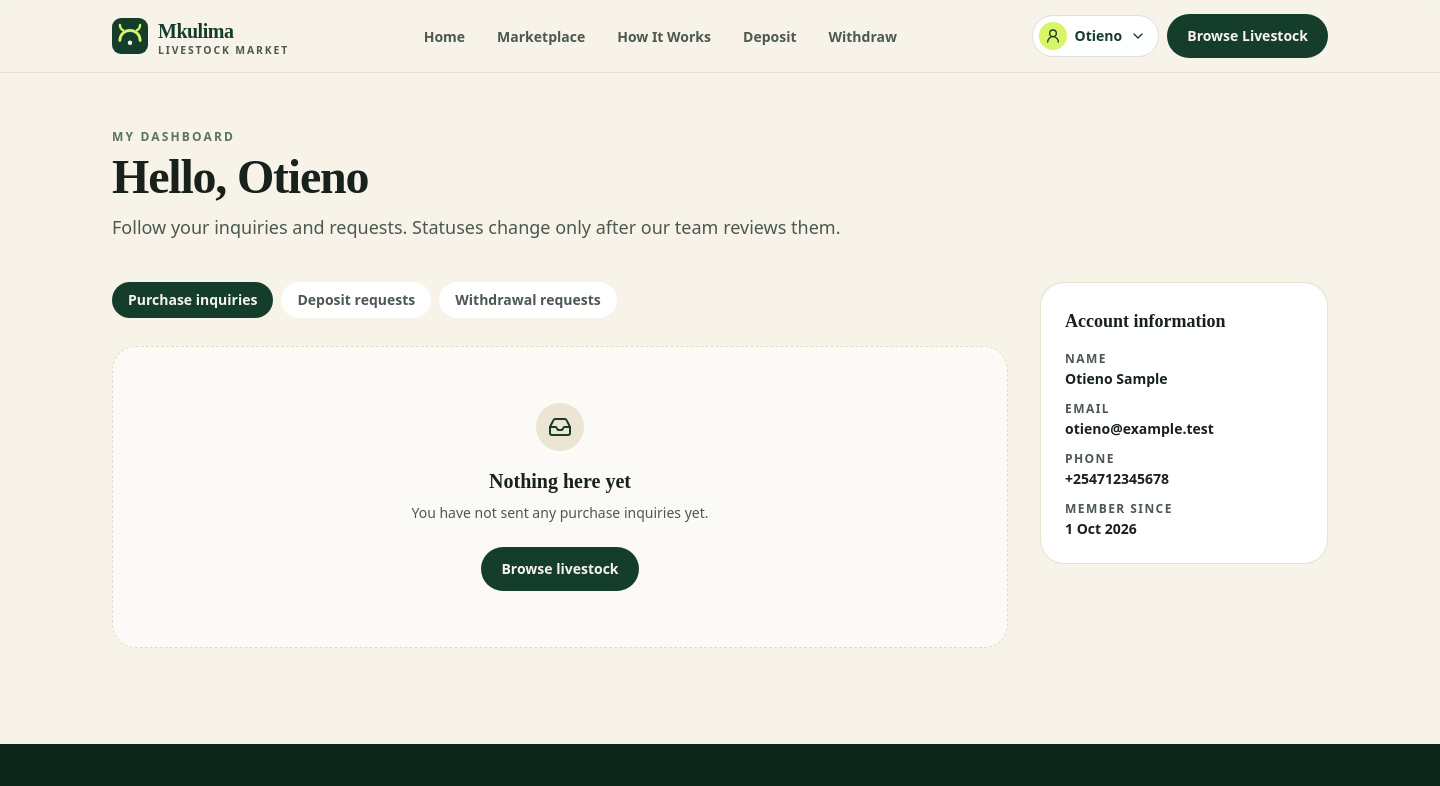
Scenario: Sign in, sign up and sign out › signs out from the account menu
The image size is (1440, 786).
Click the button with aria-label "account menu" at coordinates (1095, 36), box [1032, 15, 1159, 57]
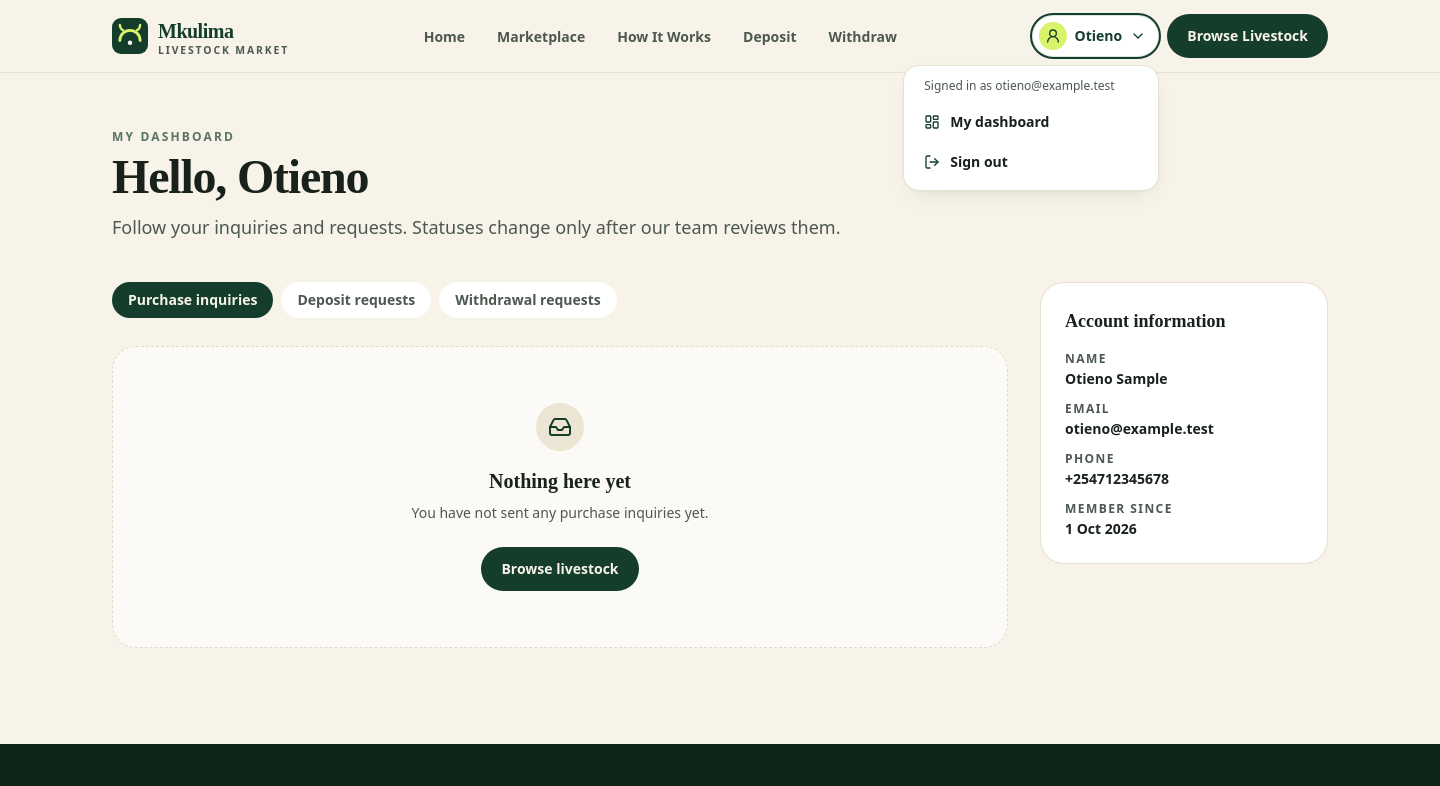
Click the button "Sign out" at coordinates (1031, 162), box [912, 142, 1150, 182]
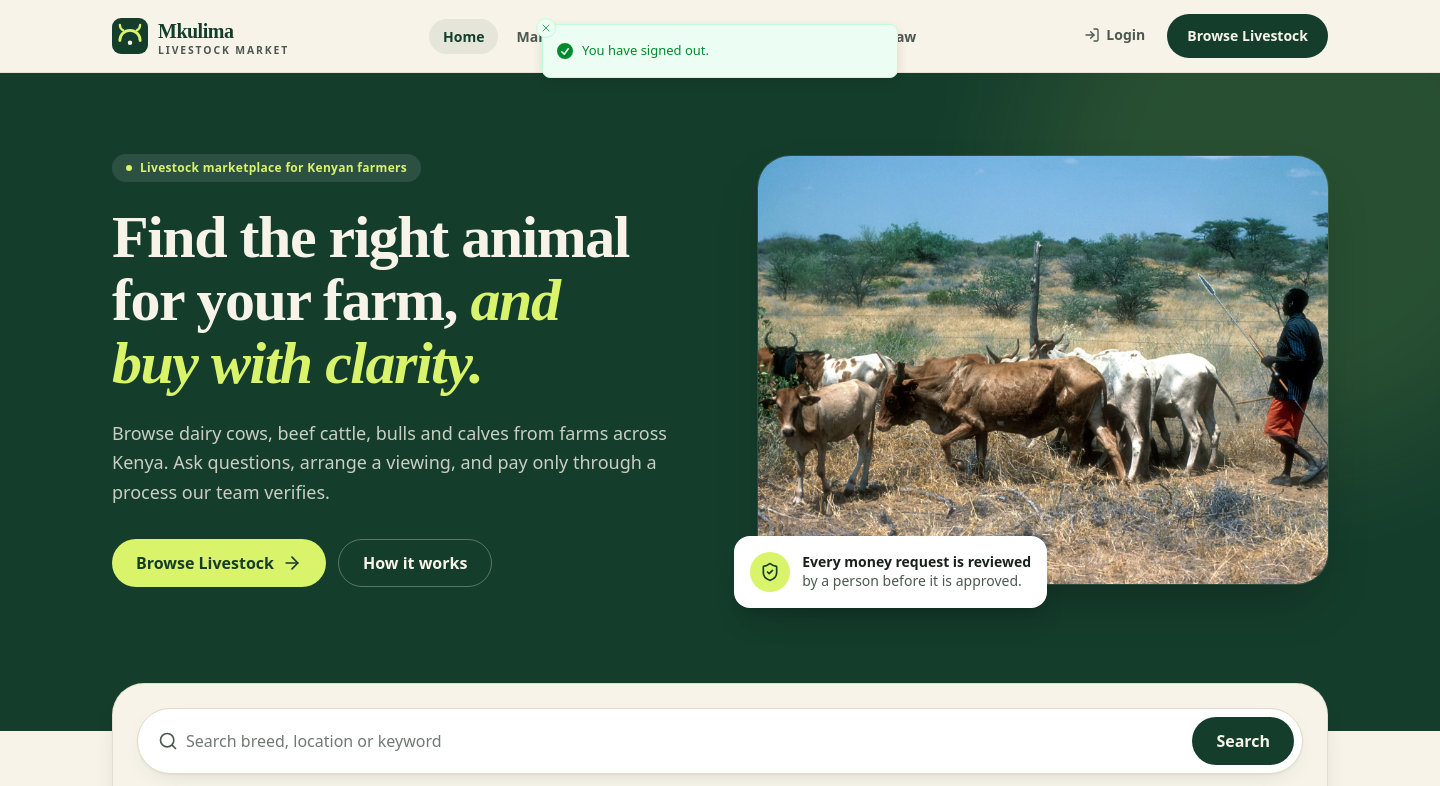
Check: the text "You have signed out." is shown, box [582, 41, 709, 60]
Check: the link "Login" is shown, box [1084, 24, 1145, 44]
